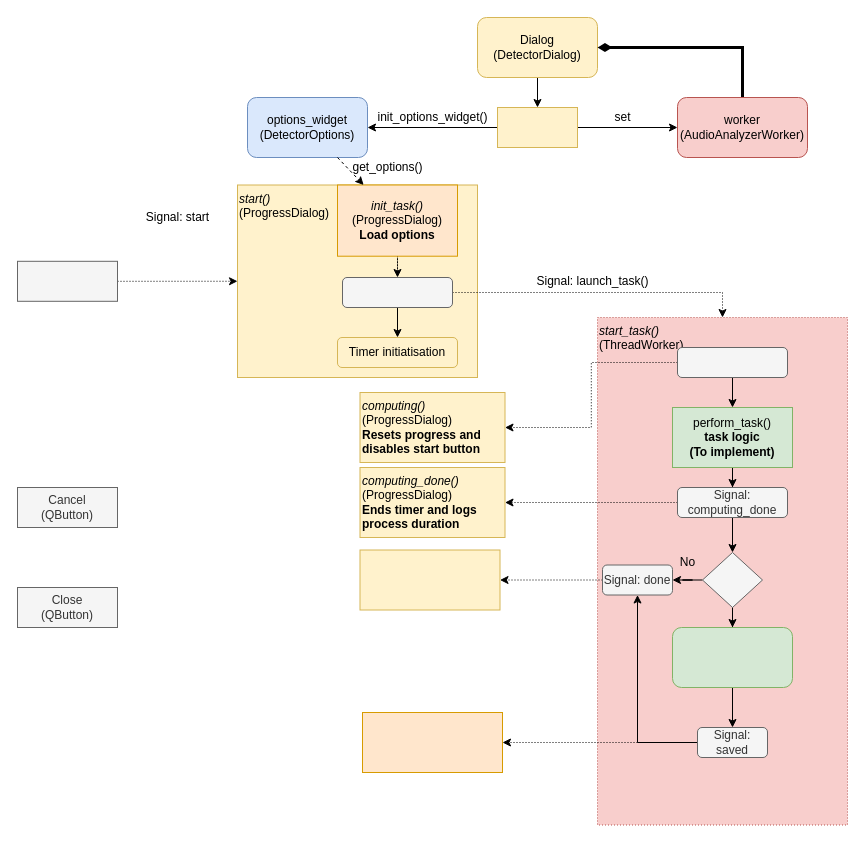
Some shapes in this 865 by 851 pixel diagram are drawn without their labels. Here are the shapes that lost their labels. From the top down, the centre of each, then its label:
At (537,127): "init()".
At (67,280): "Start (QButton)".
At (397,292): "Signal: launch_task".
At (732,362): "Signal: computing".
At (429,579): "task_done() (ProgressDialog) Show Close button and hide others".
At (732,580): "Save?".
At (732,657): "save_results() saving logic (To implement)".
At (432,742): "results_saved() To implement".
